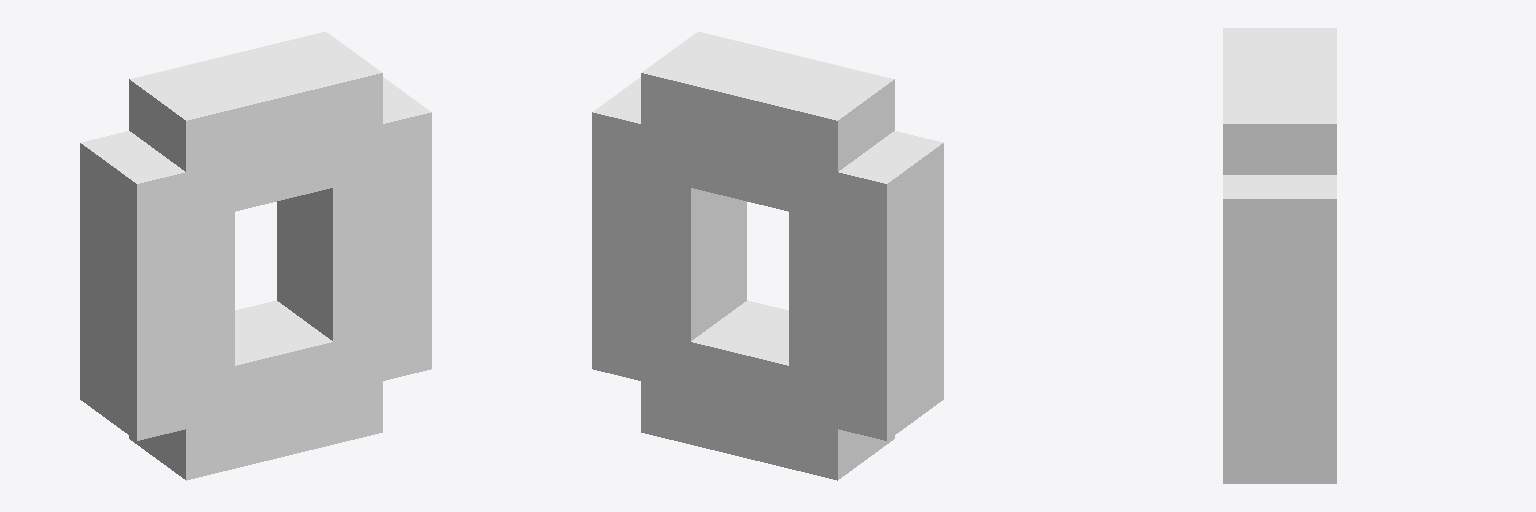
Rendered from Number0.obj.
3 renders of one model, left to right at view 1: azimuth 30°, elevation 25°; view 2: azimuth 150°, elevation 25°; view 3: azimuth 270°, elevation 25°, orthographic.
Parts seen in each view (by area): view 1: object 1; view 2: object 1; view 3: object 1.
Part boxes in pixels (x1,y1,x2,y2): object 1: (80, 31, 431, 480); object 1: (592, 31, 943, 480); object 1: (1223, 28, 1336, 483).
Size of the model in its own units: 0.6 by 0.7 by 0.2.